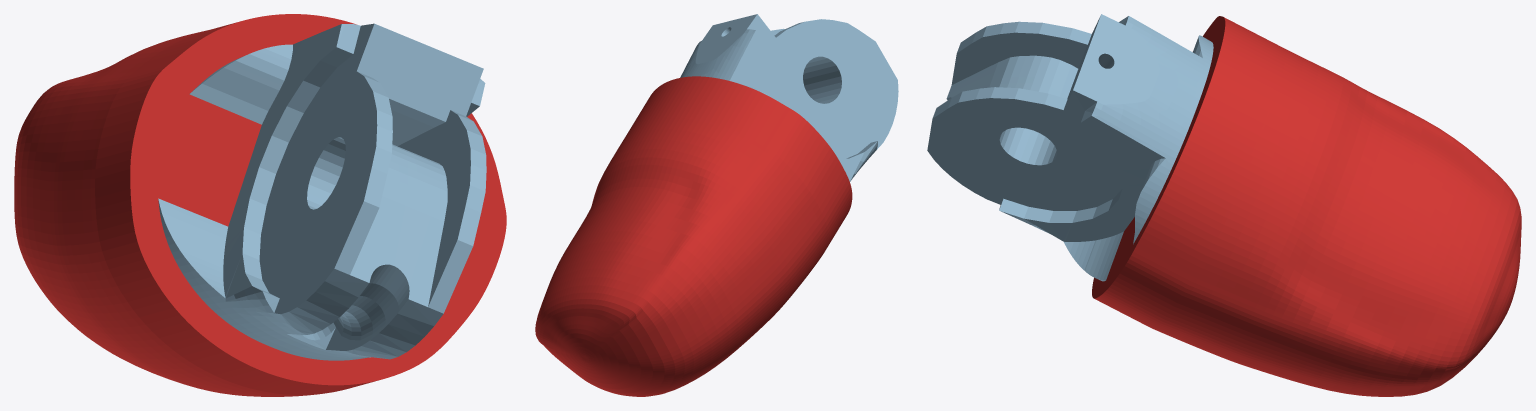
Rendered from i02_leftHand_indexTip_visual.obj.
3 views of the same model, side by side, from view 1: azimuth 30°, elevation 25°; view 2: azimuth 150°, elevation 25°; view 3: azimuth 270°, elevation 25° (orthographic). The views are drawn at different scales.
Visible parts, largest first — view 1: i02_leftHand_indexTip_visual.001; view 2: i02_leftHand_indexTip_visual.001; view 3: i02_leftHand_indexTip_visual.001.
Part boxes in pixels (x1,y1,x2,y2): i02_leftHand_indexTip_visual.001: (14, 14, 506, 396); i02_leftHand_indexTip_visual.001: (535, 14, 898, 396); i02_leftHand_indexTip_visual.001: (927, 14, 1521, 396).
Size of the model in its own units: 0.1891 by 0.2409 by 0.3548.
